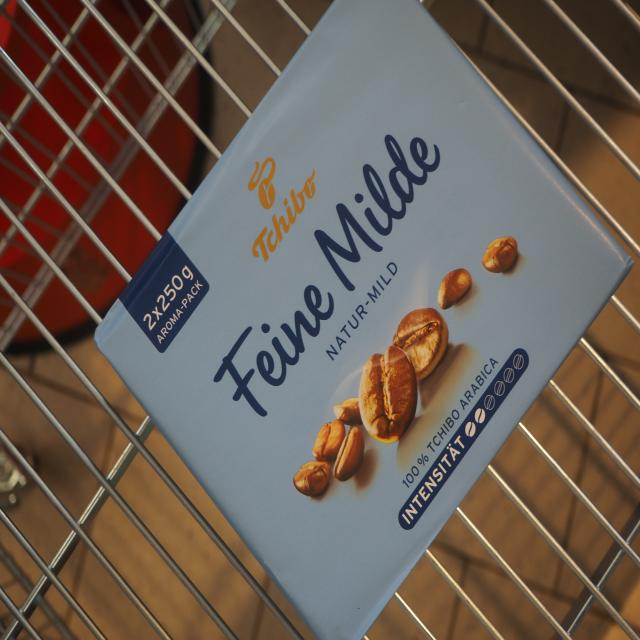FM Gemahlen: (81, 0, 639, 640)
